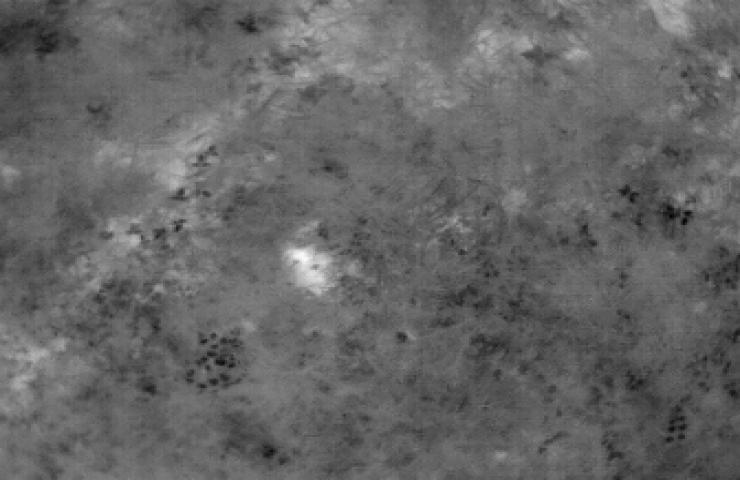landmines: (280, 240, 341, 298)
